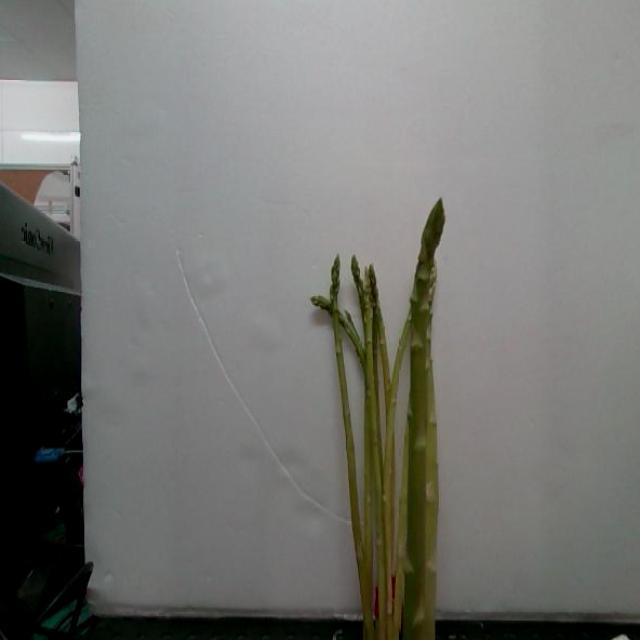aspargus: (398, 200, 444, 640)
